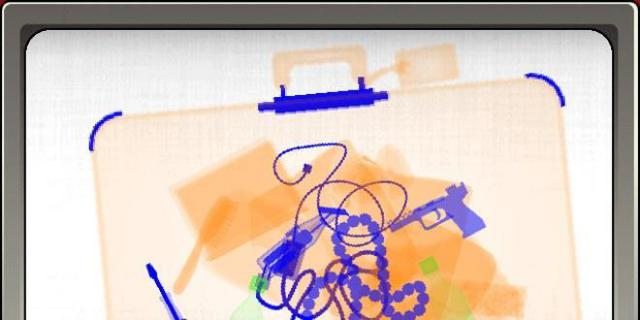Gun: (387, 182, 487, 240)
